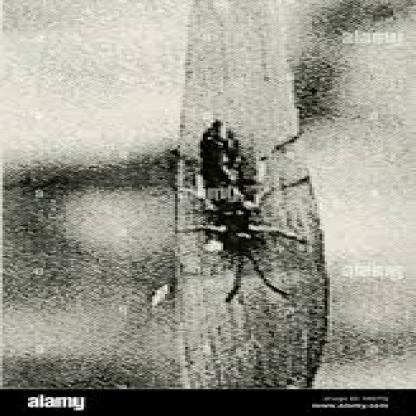sawfly: (156, 112, 330, 308)
